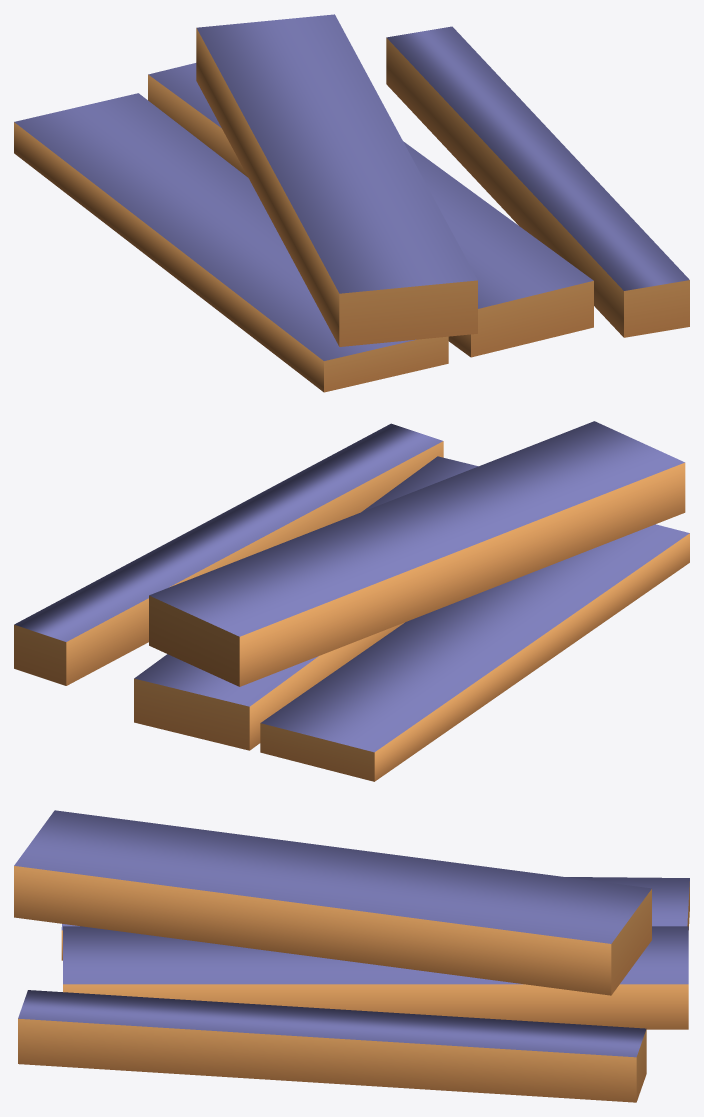
Rendered from platform-planks.fbx.
3 views of the same model, one above another, from view 1: azimuth 30°, elevation 25°; view 2: azimuth 150°, elevation 25°; view 3: azimuth 270°, elevation 25° (orthographic). The views are drawn at different scales.
Parts seen in each view (by area): view 1: platform-planks; view 2: platform-planks; view 3: platform-planks.
Part boxes in pixels (x1=…): platform-planks: x1=14, y1=14, x2=689, y2=392; platform-planks: x1=14, y1=421, x2=689, y2=781; platform-planks: x1=14, y1=810, x2=689, y2=1102.
Bounding box in the file's own units: 189 × 42.8 × 270.
